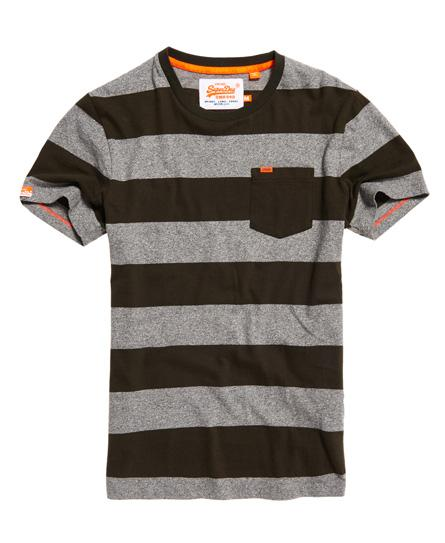teeshirt: (31, 48, 432, 520)
